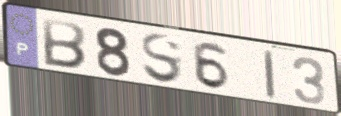3: (291, 56, 327, 105)
6: (192, 41, 231, 92)
8: (93, 26, 134, 78)
B: (41, 16, 88, 71)
I: (262, 48, 278, 102)
S: (139, 32, 185, 86)
